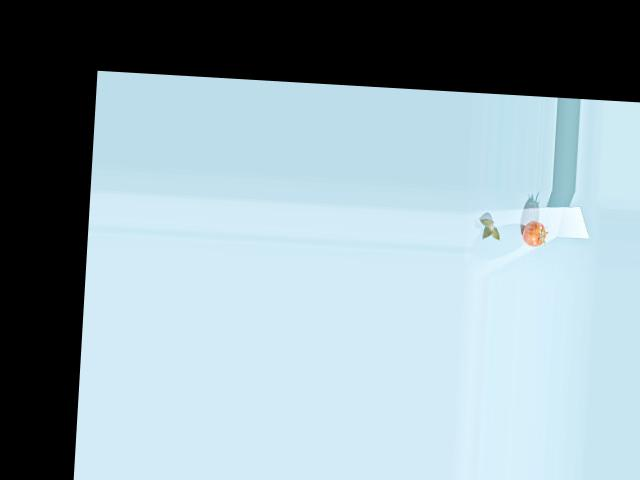tomato: (522, 220, 547, 247)
